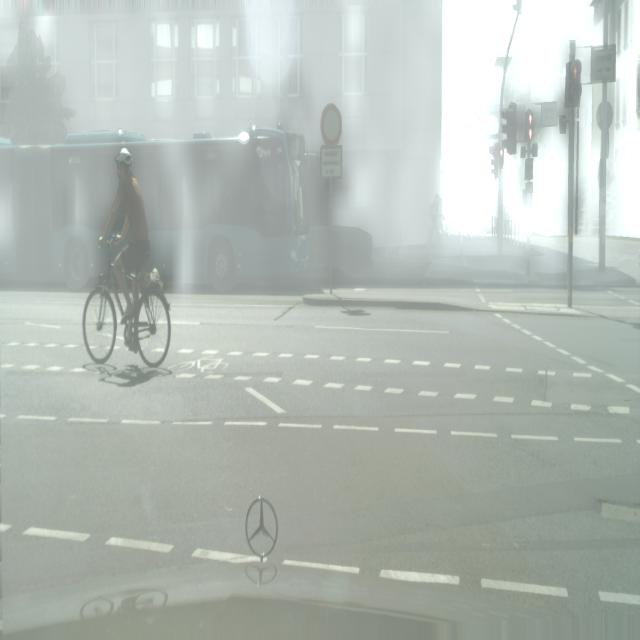car: (82, 141, 172, 368), (82, 238, 172, 368)
motorcycle: (2, 126, 310, 290)
